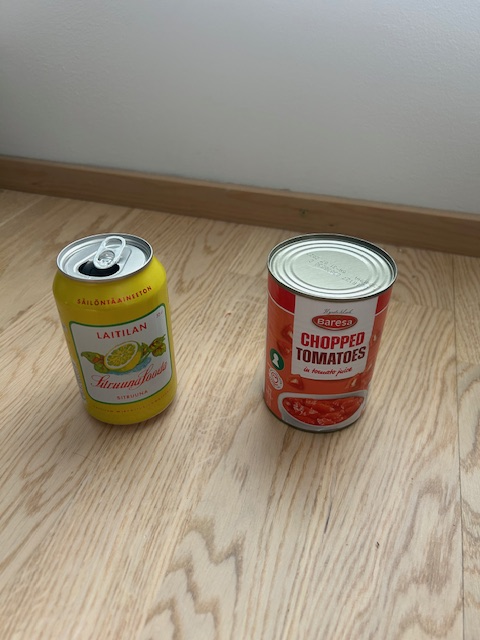Konservburk: (262, 233, 399, 434)
Pantburk: (52, 232, 178, 426)
